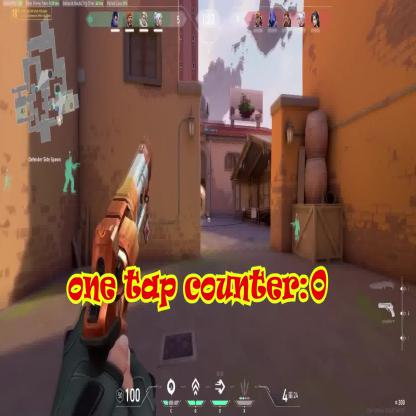enemy: (197, 192, 203, 217)
